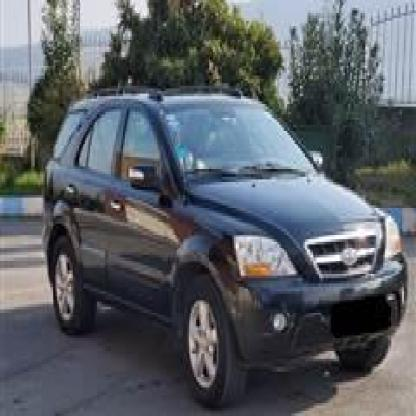Car: (41, 80, 410, 416)
